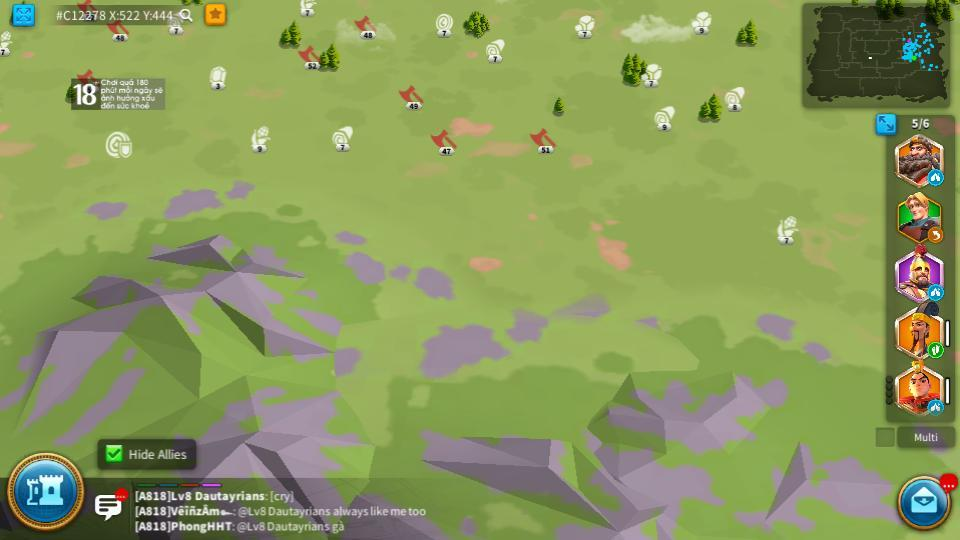gem-z-out: (207, 65, 227, 87)
march_idle: (927, 401, 944, 415), (929, 284, 942, 297), (929, 172, 942, 185)
march_marching: (928, 345, 942, 358)
march_returning: (929, 229, 942, 241)
